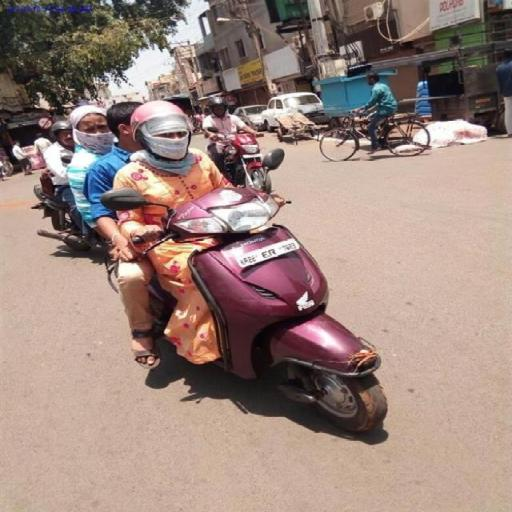tripple riding: (34, 87, 245, 285)
